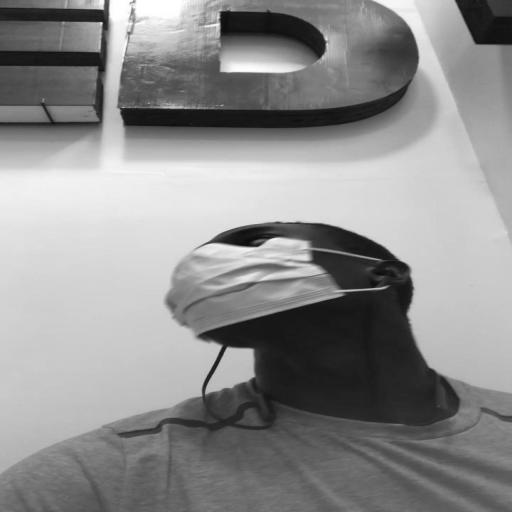mask: (163, 223, 393, 348)
